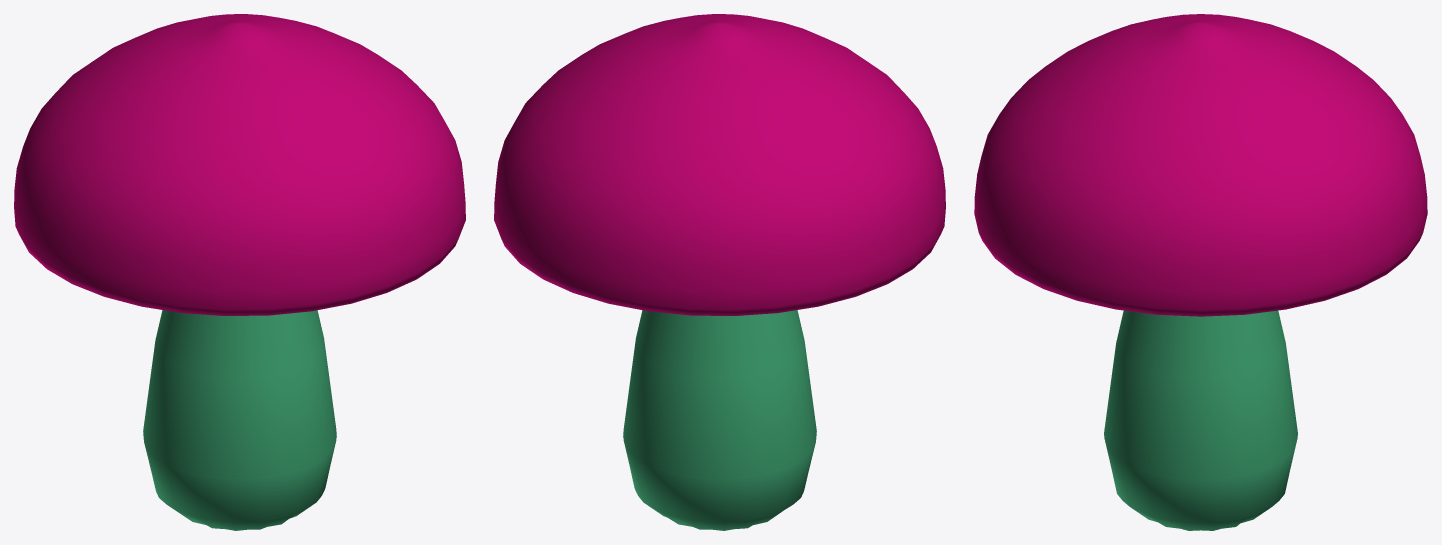
File: l_grzyb_ladny_5_wybuch.fbx
3 views of the same model, side by side, from view 1: azimuth 30°, elevation 25°; view 2: azimuth 150°, elevation 25°; view 3: azimuth 270°, elevation 25° (orthographic).
Parts seen in each view (by area): view 1: Sphere.001; view 2: Sphere.001; view 3: Sphere.001.
Part boxes in pixels (<box>): Sphere.001: <box>14,14,465,530</box>; Sphere.001: <box>494,14,945,530</box>; Sphere.001: <box>974,14,1427,530</box>.
Bounding box in the file's own units: 9.81 × 11.73 × 9.81.
